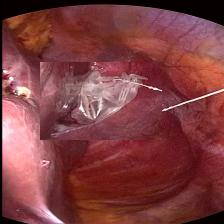Specimen Bag: (39, 62, 160, 140)
